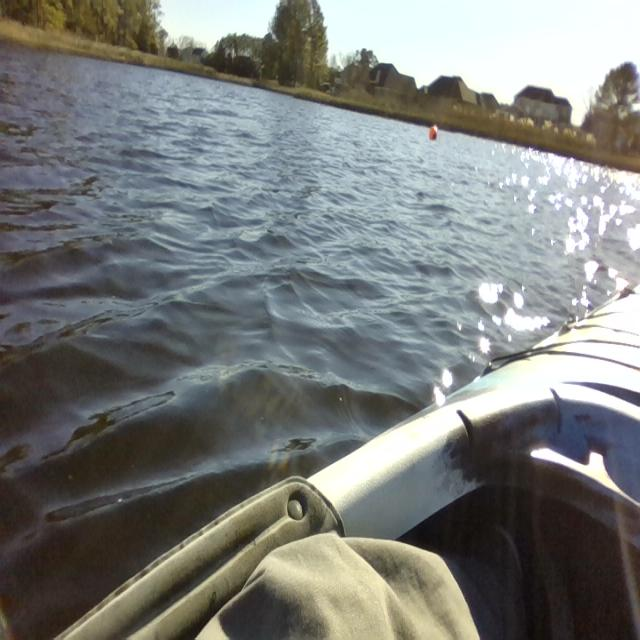Buoy: (424, 122, 443, 147)
